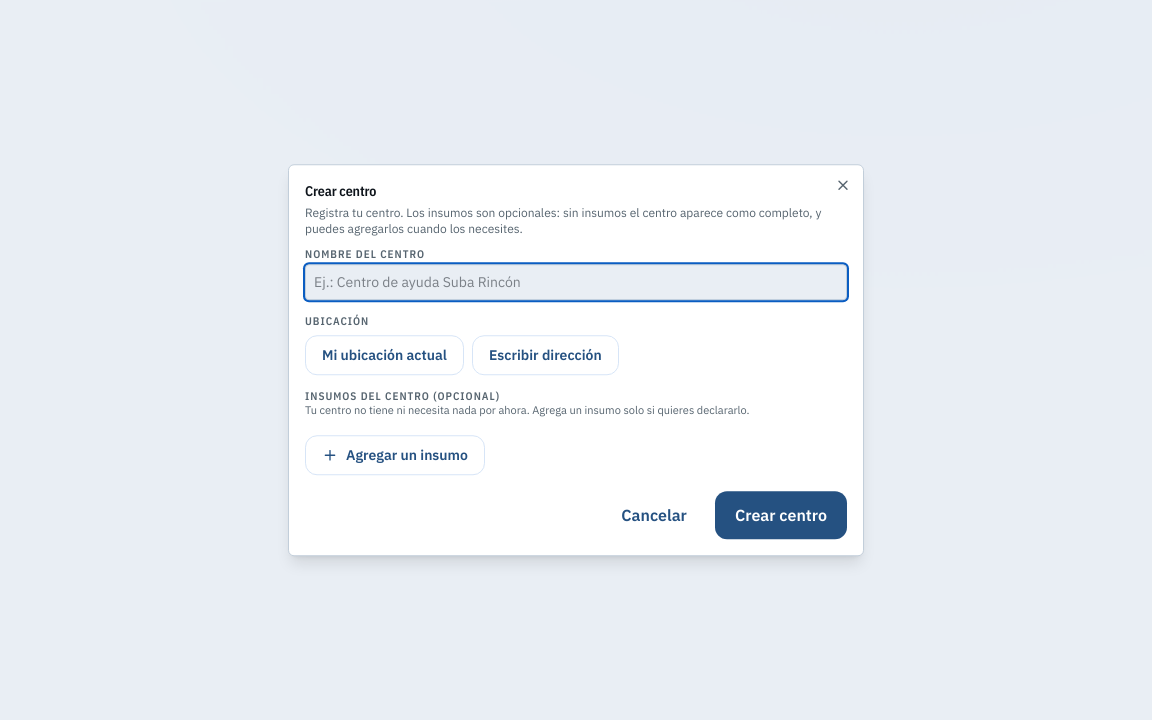
Test case: CreateCenterDialog › keeps only digits in the amount fields
Click the button "Agregar un insumo" at (395, 455), box [305,435,485,475]
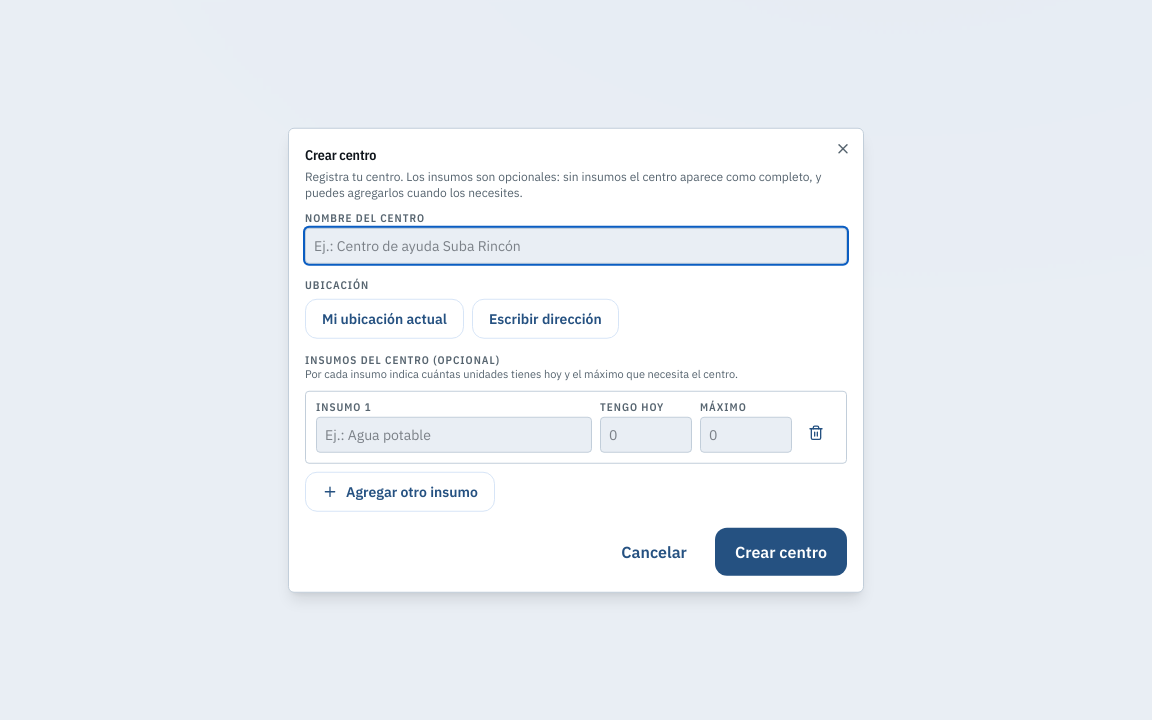
Type "-12.5" into the field named "Cantidad actual del insumo 1" at (646, 434), box [600,416,692,452]
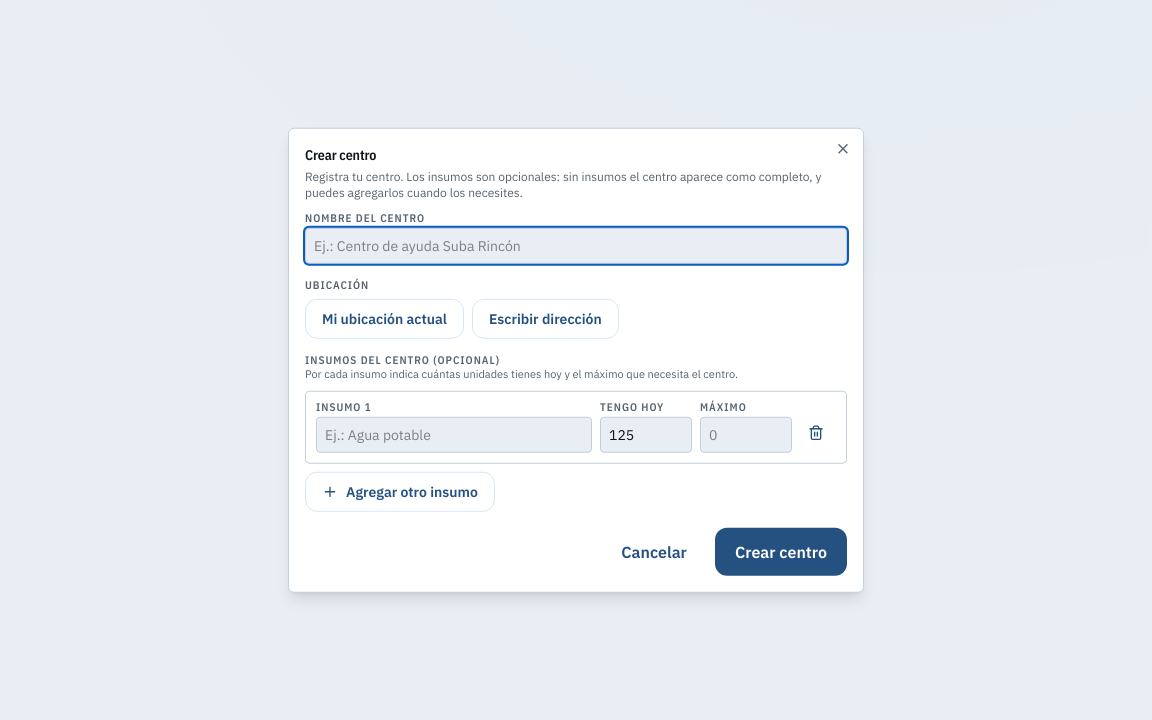
Expected: the field named "Cantidad actual del insumo 1" holds "125", [600,416,692,452]
